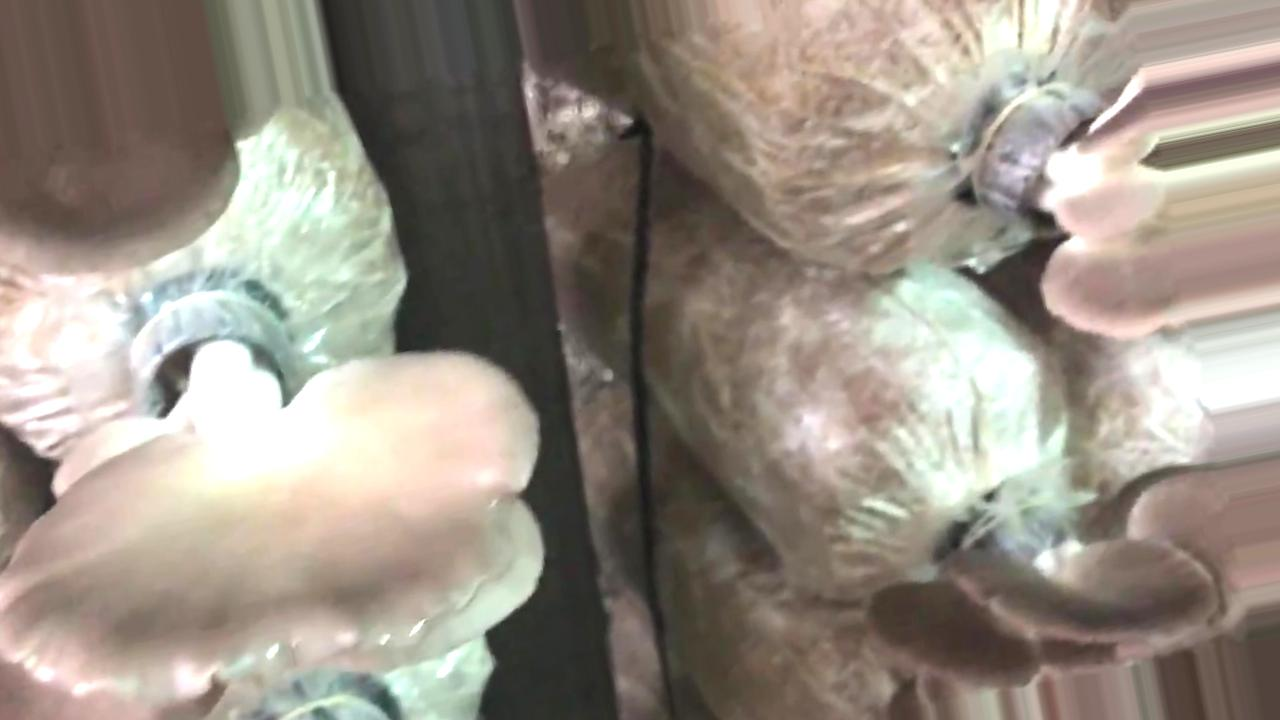nam: (1, 293, 555, 712), (870, 457, 1241, 689), (1, 8, 246, 278), (968, 92, 1166, 342)
